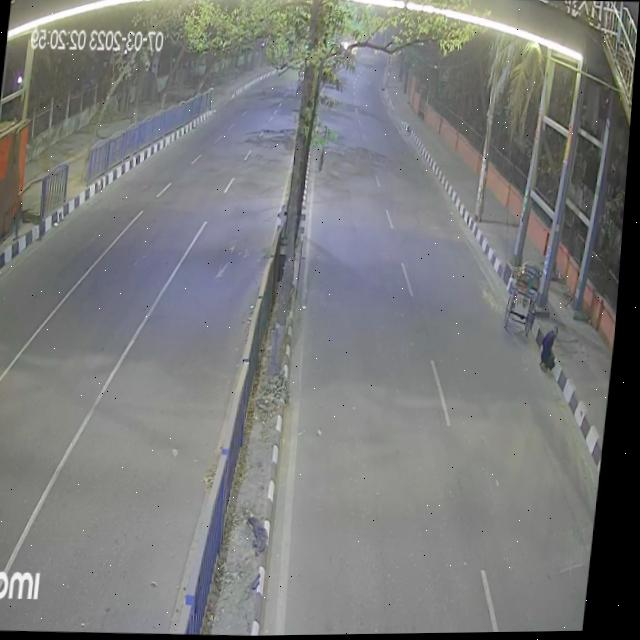rikshaw: (505, 256, 548, 339)
